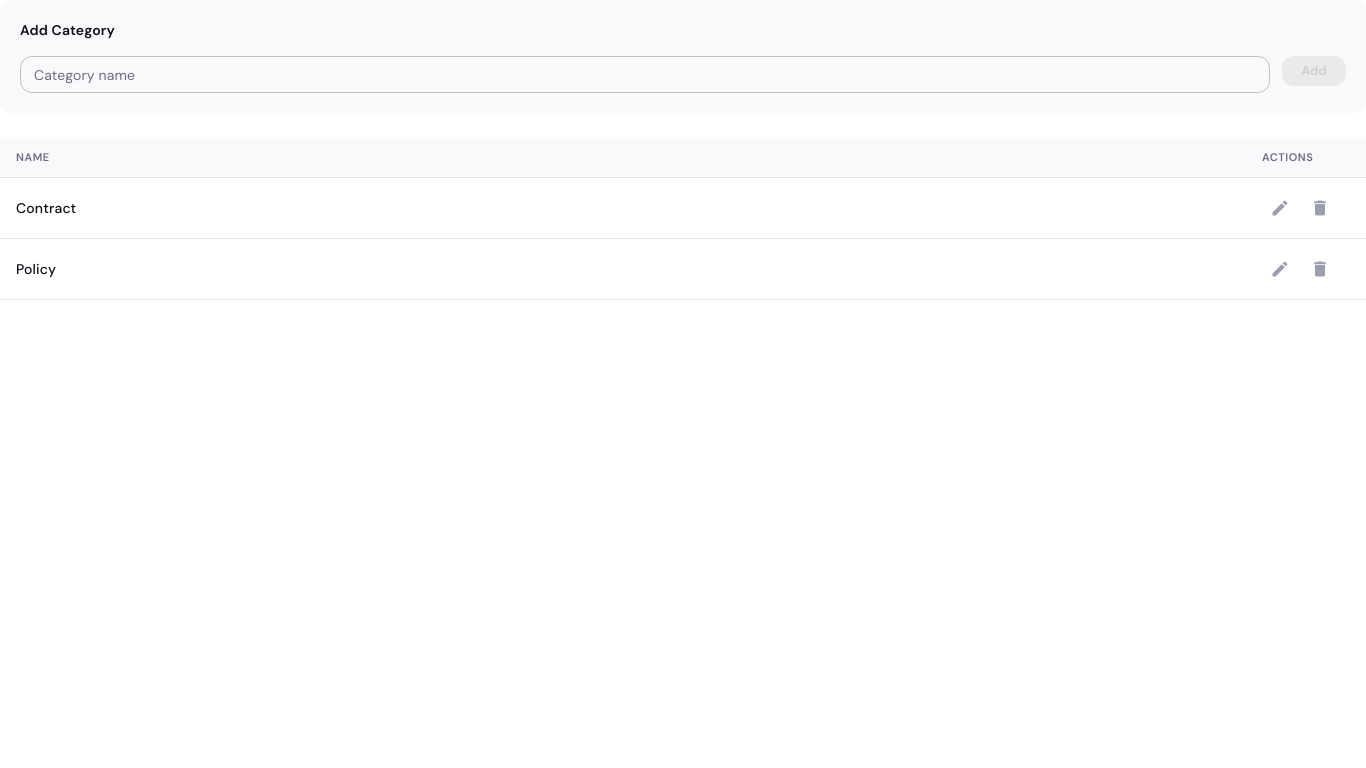
Test: CategoryManager › opens confirmation dialog when delete button clicked
The width and height of the screenshot is (1366, 768).
What coordinates should you click on to do the following:
click the button named "Delete Contract"
I would click on:
 (1320, 208)
Its box is [1302,190,1338,226].
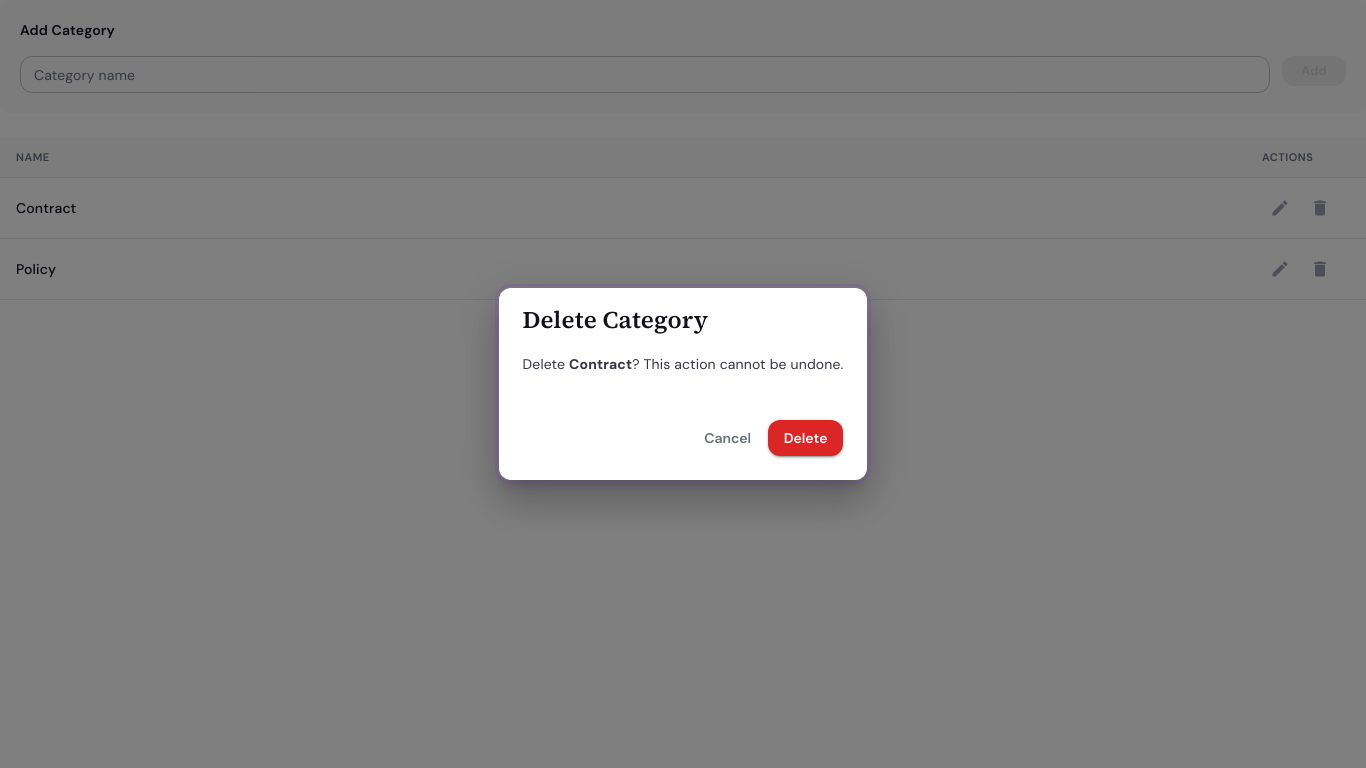
Check: the dialog is shown, box [498,288,868,480]
Check: the text "Contract" is shown, box [569,355,632,373]
